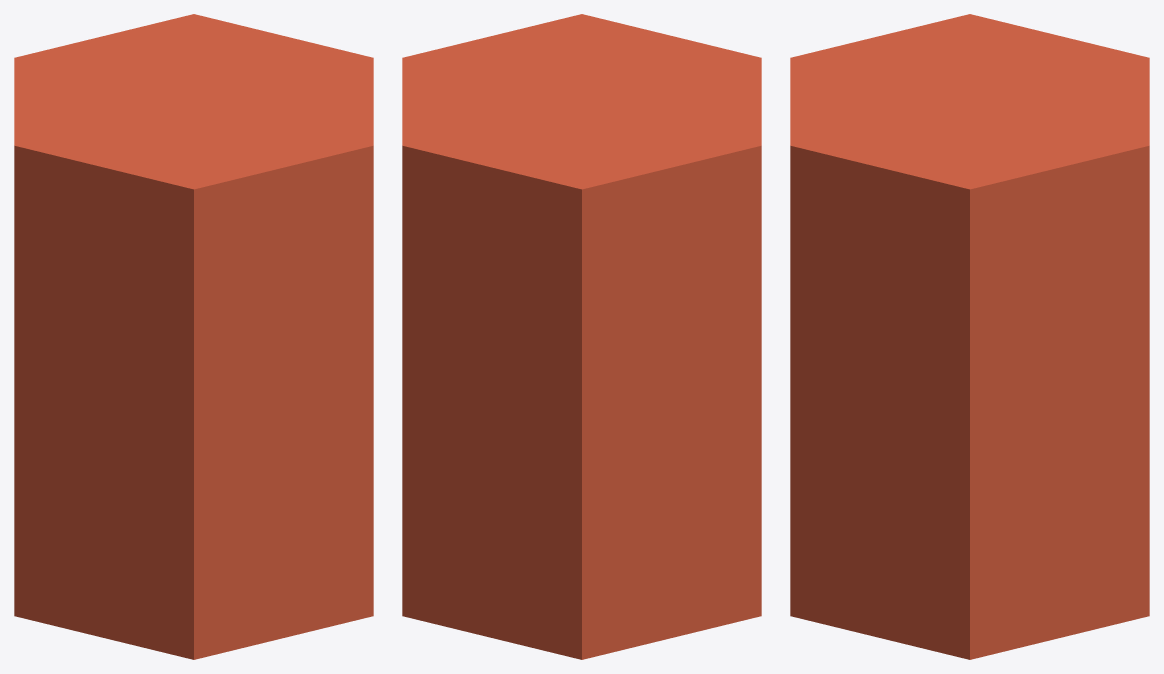
The model's file is barrel.glb.
The picture shows the model from 3 angles, left to right: view 1: azimuth 30°, elevation 25°; view 2: azimuth 150°, elevation 25°; view 3: azimuth 270°, elevation 25°; orthographic projection.
Parts seen in each view (by area): view 1: barrel; view 2: barrel; view 3: barrel.
Part boxes in pixels (x1,y1,x2,y2): barrel: (14, 14, 373, 659); barrel: (402, 14, 761, 659); barrel: (790, 14, 1149, 659).
Bounding box in the file's own units: 1.2 × 1.5 × 1.04.
